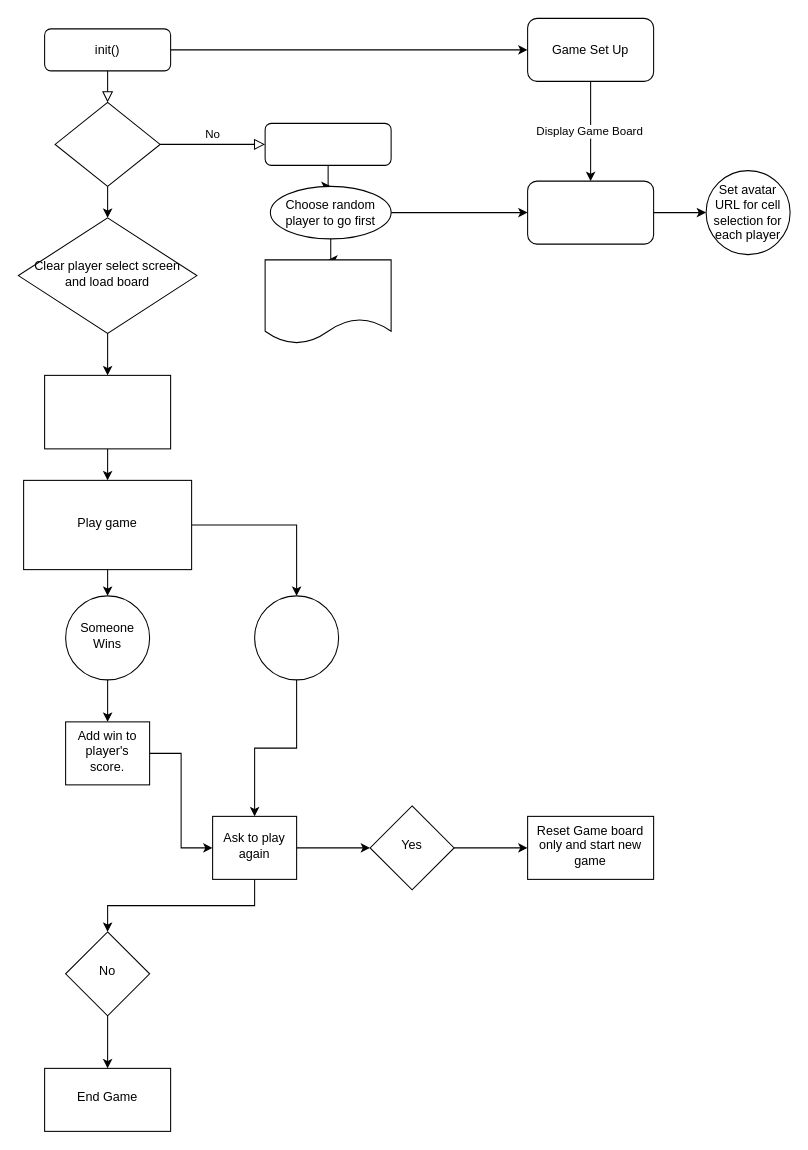
Image size: 808x1150. Some labels were removed from this diagram. The centre of each missing label's shape, as x and y in pixels:
Choose Character: (x=327, y=143)
No One Wins: (x=296, y=637)
Player Select Screen: (x=107, y=143)
Set current player to player: (x=590, y=212)
Set player 1 & player 2 variables to character choice: (x=327, y=301)
Set player's turn (based off who chose character first): (x=107, y=411)
